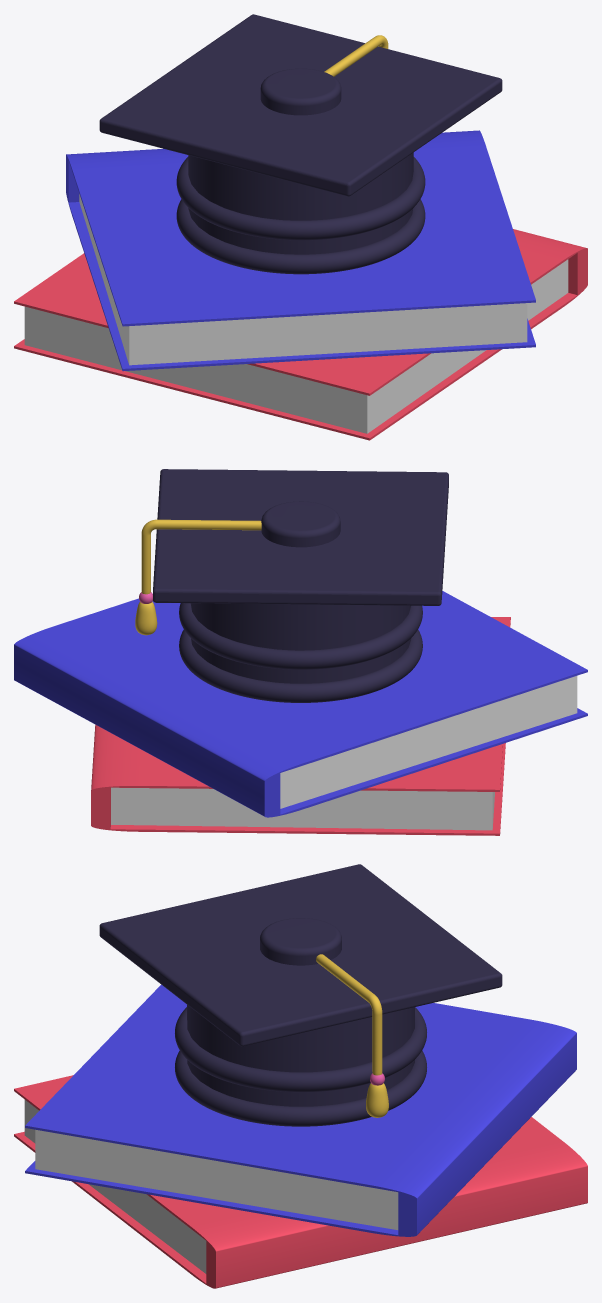
File: graduation_hat.glb
The picture shows the model from 3 angles, top to bottom: view 1: azimuth 30°, elevation 25°; view 2: azimuth 150°, elevation 25°; view 3: azimuth 270°, elevation 25°; orthographic projection. The views are drawn at different scales.
Visible parts, largest first — view 1: Cube.001, Torus, Cube, Sphere; view 2: Cube.001, Torus, Cube, Sphere; view 3: Cube.001, Torus, Cube, Sphere.
Part boxes in pixels (x1,y1,x2,y2): Cube.001: [66, 130, 535, 371]; Torus: [99, 14, 502, 274]; Cube: [14, 229, 587, 440]; Sphere: [324, 35, 388, 76]; Cube.001: [14, 591, 587, 817]; Torus: [153, 469, 448, 702]; Cube: [91, 617, 510, 835]; Sphere: [135, 519, 261, 635]; Cube.001: [25, 984, 576, 1236]; Torus: [99, 864, 502, 1126]; Cube: [14, 1075, 587, 1288]; Sphere: [316, 954, 388, 1117].
Size of the model in its own units: 2.71 by 1.25 by 2.71.
